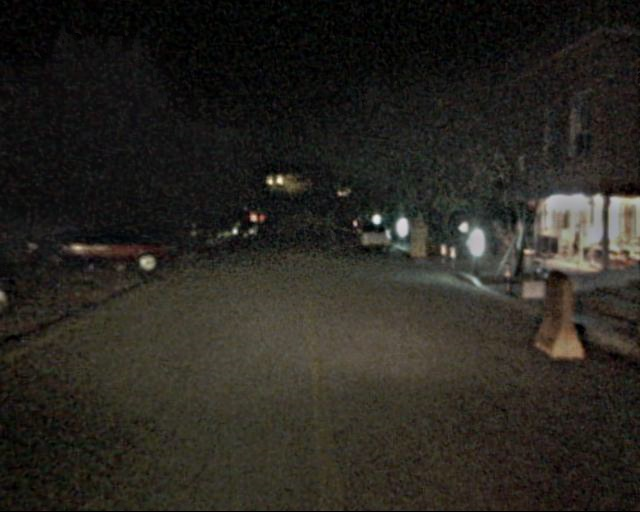person: (486, 219, 505, 265)
